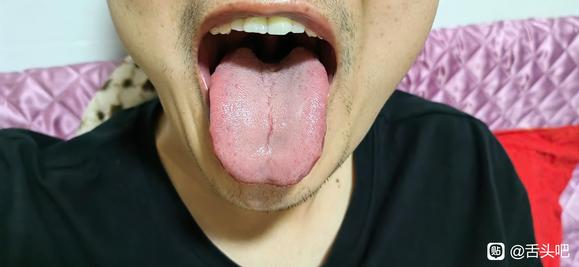baitaishe: (210, 45, 330, 186)
chihenshe: (295, 130, 327, 182)
liewenshe: (264, 80, 276, 152)
shenquao: (242, 45, 303, 65)
